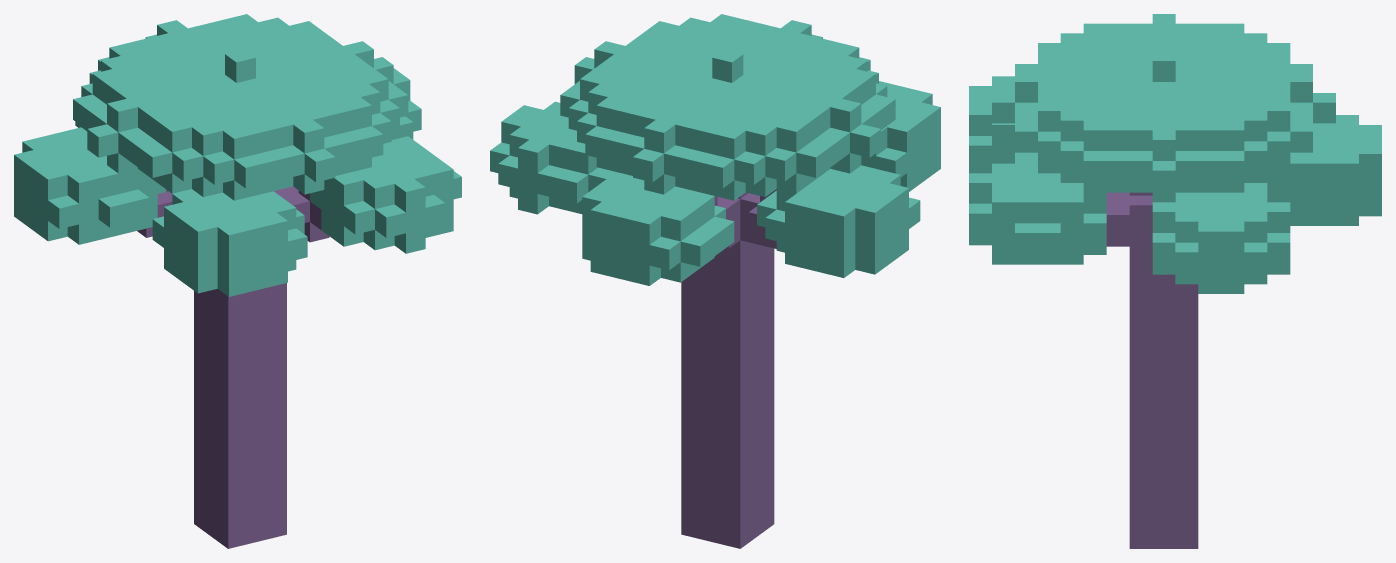
Rendered from alien-biosphere-umbrella-tree-7ef432c3__22679.glb.
3 views of the same model, side by side, from view 1: azimuth 30°, elevation 25°; view 2: azimuth 150°, elevation 25°; view 3: azimuth 270°, elevation 25° (orthographic).
Visible parts, largest first — view 1: umbrella-tree; view 2: umbrella-tree; view 3: umbrella-tree.
Part boxes in pixels (x1,y1,x2,y2): umbrella-tree: (14, 14, 461, 548); umbrella-tree: (490, 14, 940, 548); umbrella-tree: (969, 14, 1381, 548).
Bounding box in the file's own units: 3.8 × 4.6 × 3.6.
